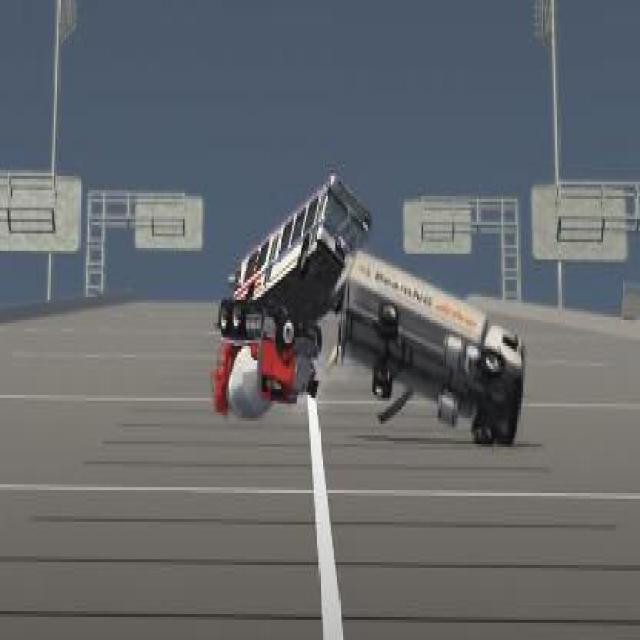accident: (209, 173, 526, 447)
